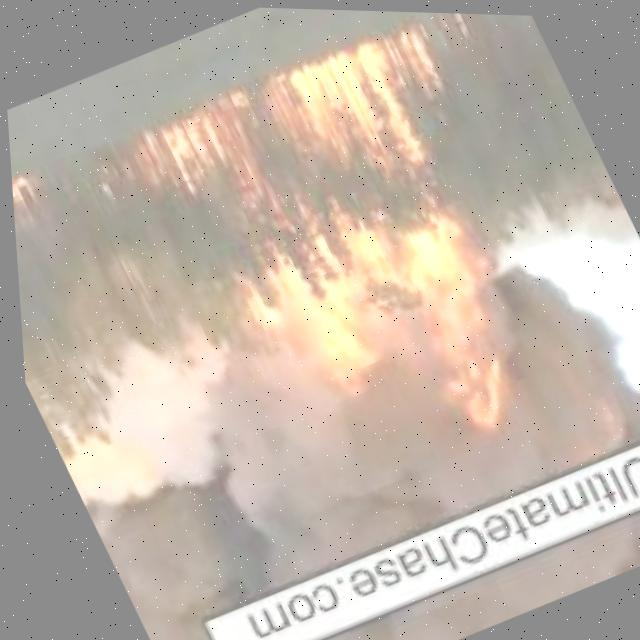Fire: (76, 6, 509, 300), (201, 185, 538, 507), (9, 167, 51, 247)
Smoke: (35, 201, 640, 640), (156, 463, 640, 640)
